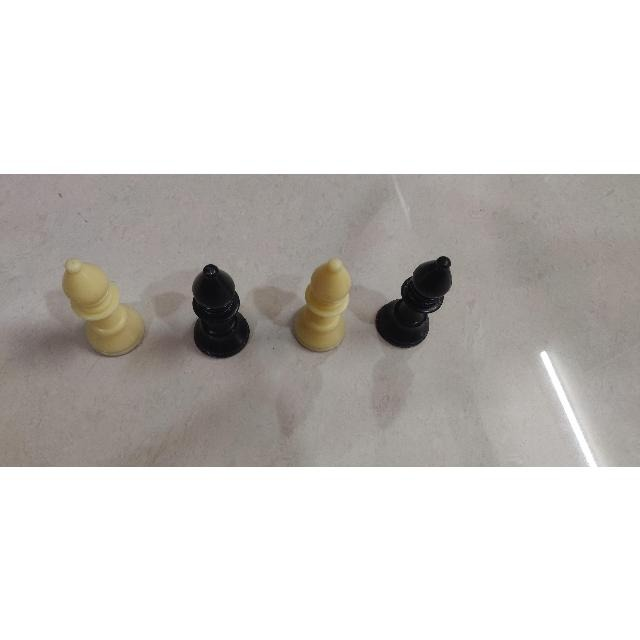black-bishop: (370, 248, 454, 352), (187, 260, 253, 364)
white-bishop: (59, 253, 155, 359), (288, 253, 356, 359)
